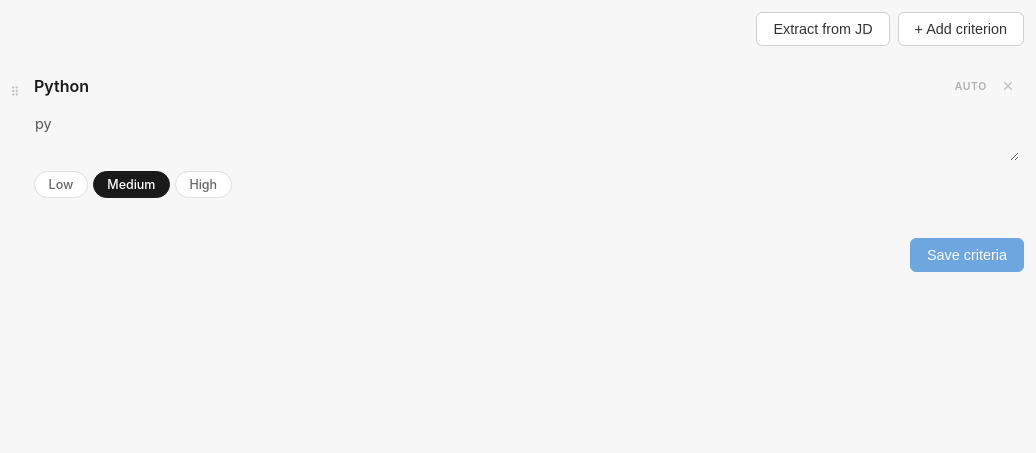
Scenario: CriteriaTab › Extract appends proposed criteria as drafts
The width and height of the screenshot is (1036, 453).
Expected: the field showing "Python" is shown, x1=34 y1=74 x2=945 y2=99
What coordinates should you click on to do the following:
click the button "Extract from JD"
I would click on:
 (823, 29)
Its box is x1=756 y1=12 x2=890 y2=46.
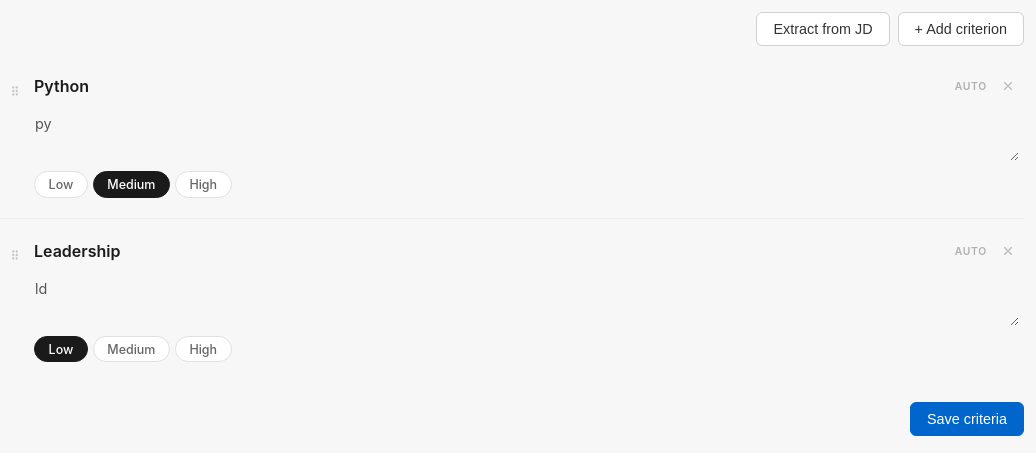
Expected: the 2nd field showing "Leadership" is shown, x1=34 y1=239 x2=945 y2=264
